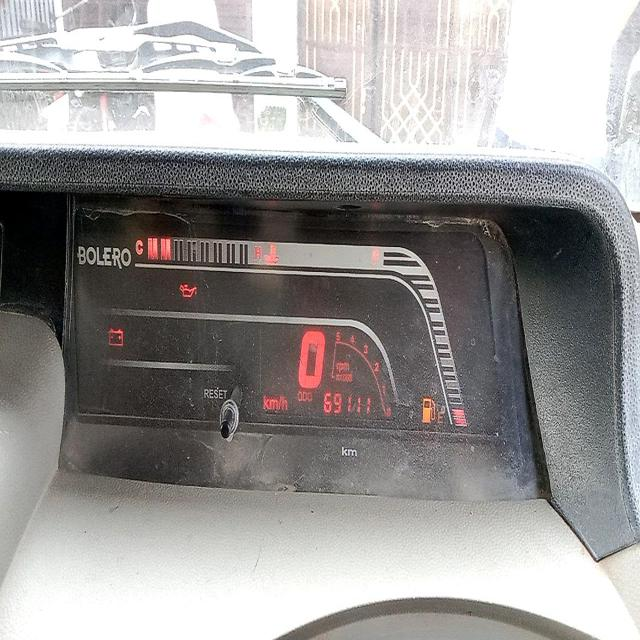odometer: (321, 389, 374, 422)
